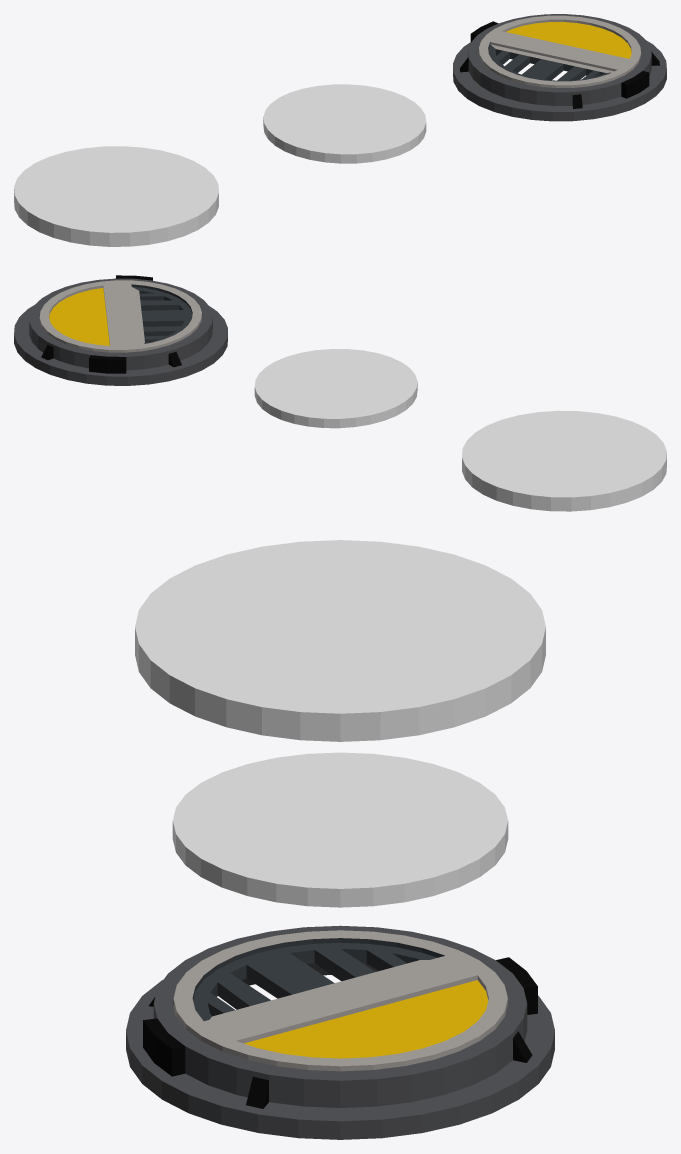
The model's file is Alcantarilla1.fbx.
3 renders of one model, top to bottom at view 1: azimuth 30°, elevation 25°; view 2: azimuth 150°, elevation 25°; view 3: azimuth 270°, elevation 25°, orthographic. The views are drawn at different scales.
Visible parts, largest first — view 1: Cilindro, Cilindro.001, Cilindro.003, Cilindro.002; view 2: Cilindro, Cilindro.001, Cilindro.002, Cilindro.003; view 3: Cilindro, Cilindro.001, Cilindro.002, Cilindro.003.
Boxes of the visible parts, left/top/right/bottom form: Cilindro: left=14, top=146, right=218, bottom=246; Cilindro.001: left=263, top=84, right=426, bottom=163; Cilindro.003: left=453, top=14, right=666, bottom=121; Cilindro.002: left=479, top=15, right=640, bottom=87; Cilindro: left=462, top=410, right=666, bottom=511; Cilindro.001: left=254, top=349, right=417, bottom=428; Cilindro.002: left=39, top=280, right=201, bottom=352; Cilindro.003: left=14, top=275, right=227, bottom=385; Cilindro: left=135, top=540, right=545, bottom=741; Cilindro.001: left=172, top=752, right=508, bottom=907; Cilindro.002: left=173, top=930, right=507, bottom=1071; Cilindro.003: left=126, top=925, right=554, bottom=1139.
Bounding box in the file's own units: 703 × 48.15 × 209.
